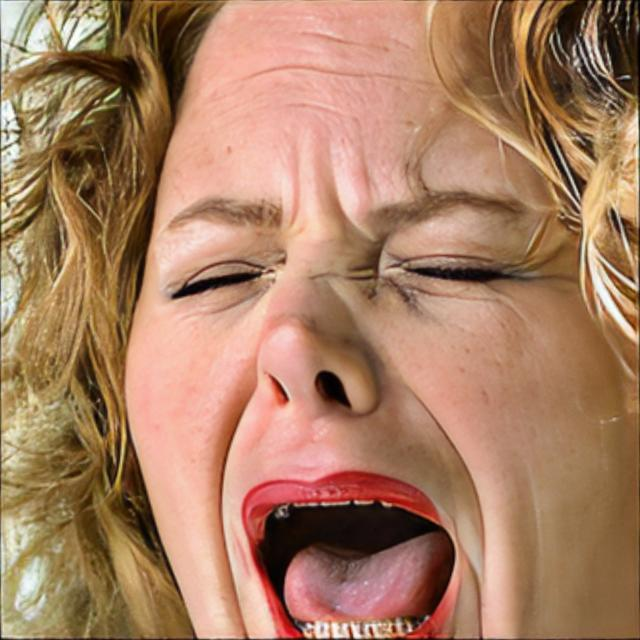anger: (127, 24, 605, 640)
